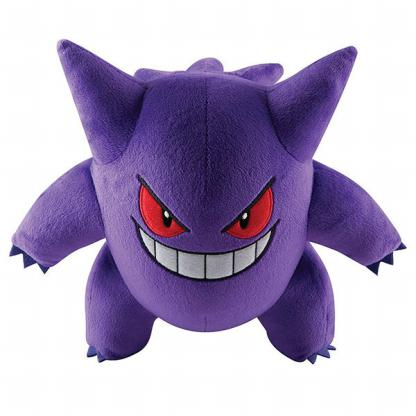Gengar: (16, 24, 410, 377)
